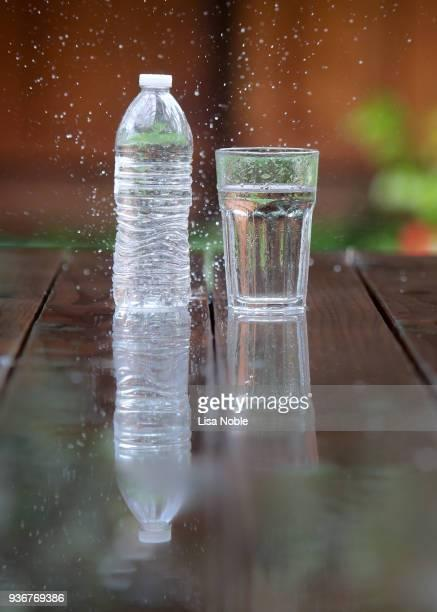bottle: (104, 62, 202, 324)
